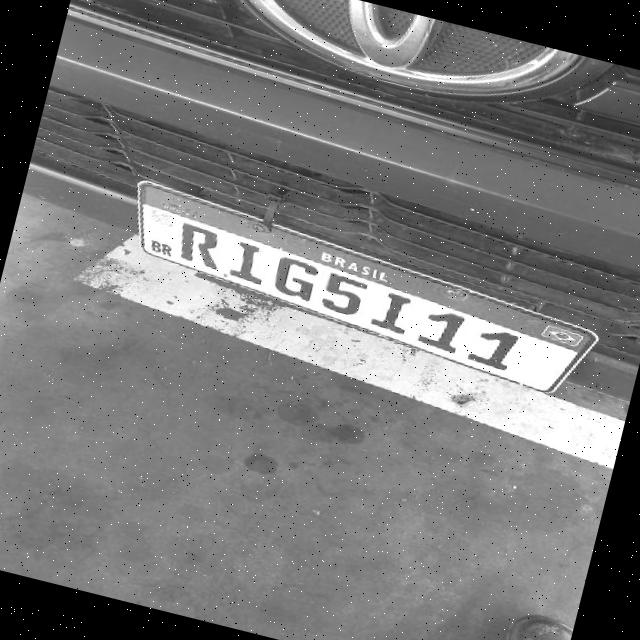placa_mercosul: (137, 180, 602, 395)
